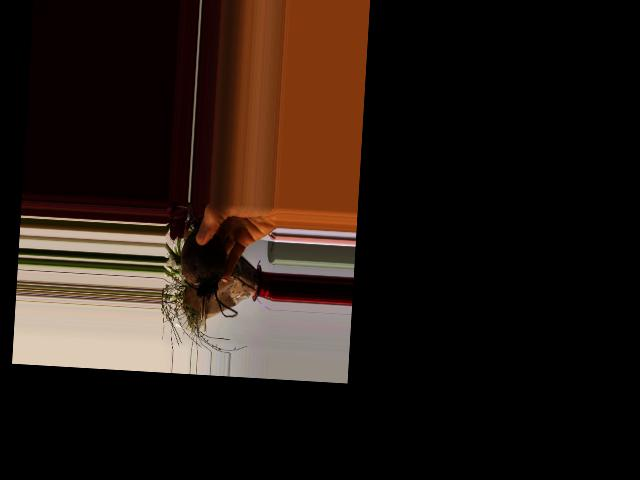beet: (170, 205, 243, 318)
